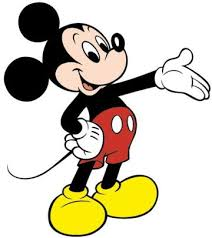mickey: (5, 2, 210, 238)
